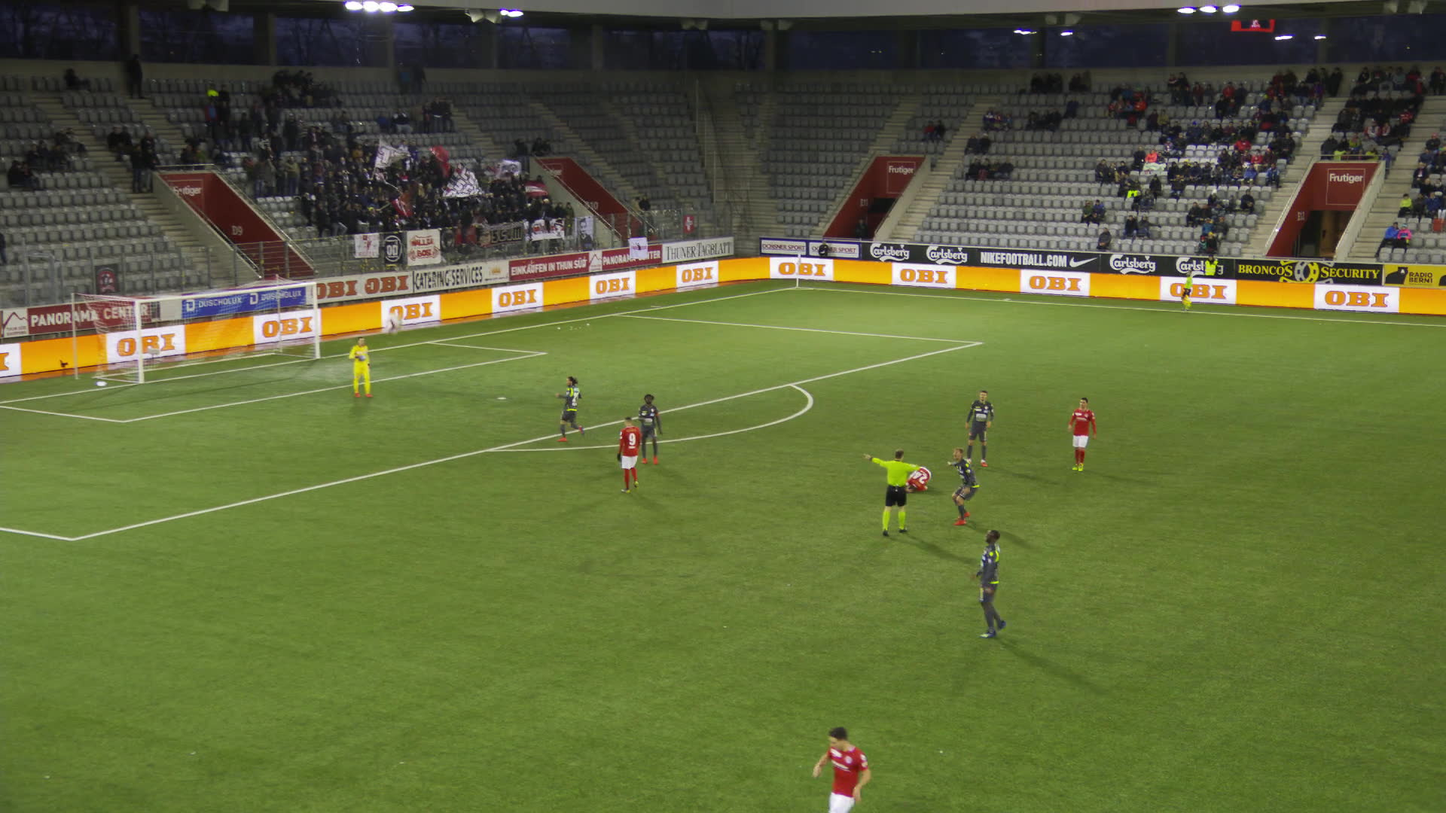ball: (384, 308, 404, 330)
player: (809, 726, 873, 812), (972, 529, 1016, 640), (944, 445, 978, 527), (551, 373, 590, 444), (961, 388, 994, 469), (1064, 396, 1097, 471), (633, 392, 664, 464), (615, 415, 642, 494), (345, 334, 372, 398), (901, 464, 932, 493)
referee: (861, 448, 920, 535), (1177, 268, 1196, 312)
